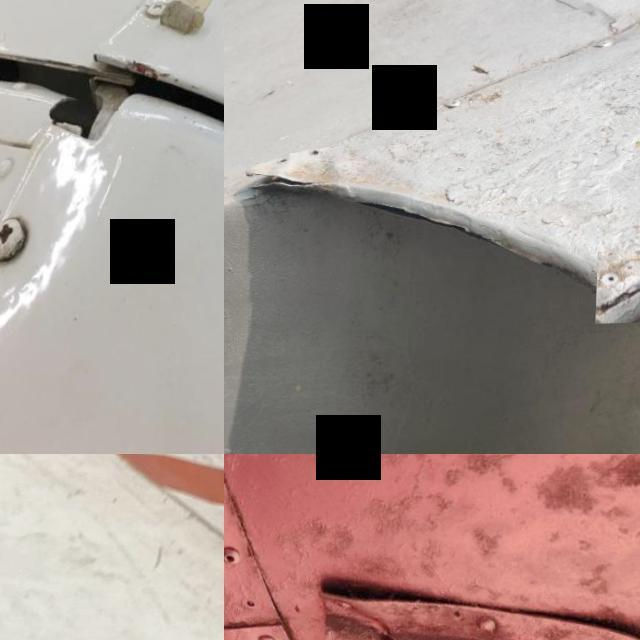Crack: (242, 162, 331, 206), (598, 253, 640, 327), (192, 53, 224, 131), (363, 617, 412, 640)
